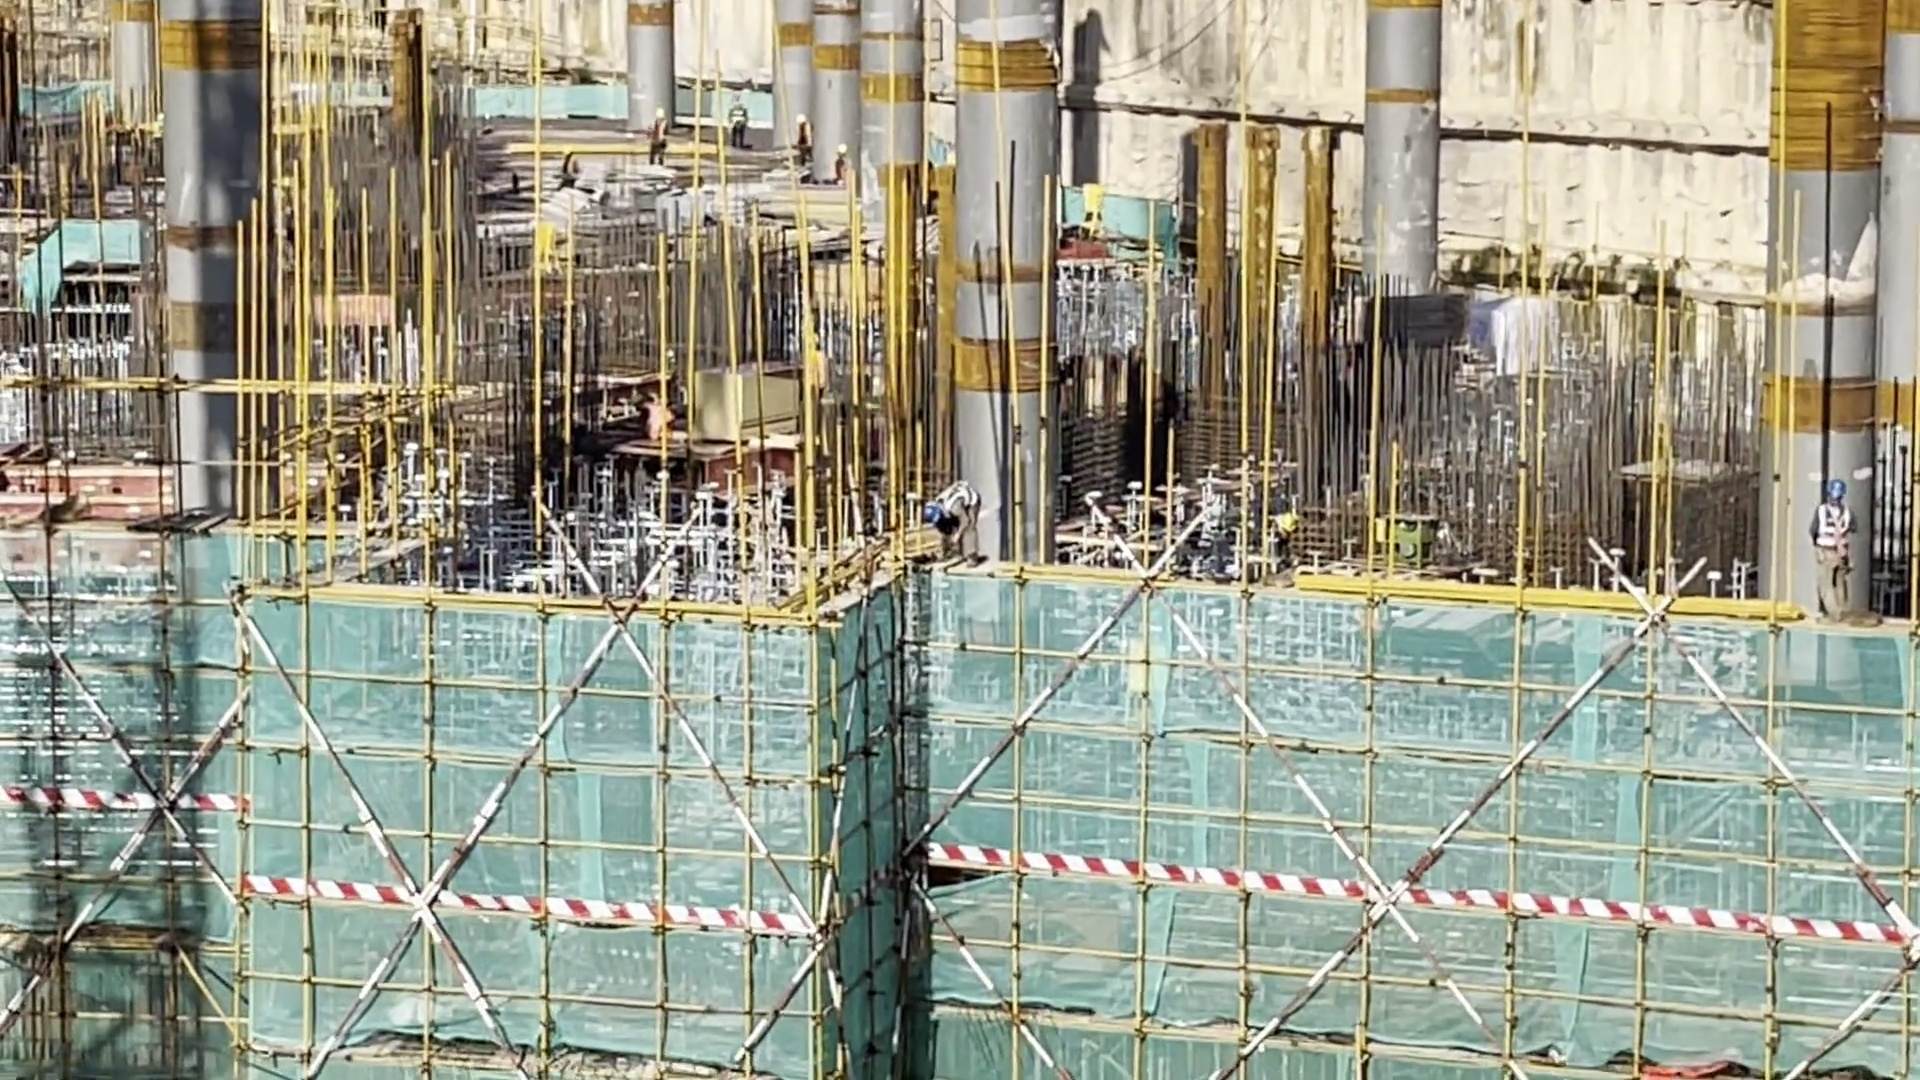helmet: (1274, 506, 1299, 536), (1829, 477, 1853, 504), (924, 499, 943, 524), (654, 108, 669, 123), (734, 94, 746, 108), (795, 113, 807, 128), (649, 392, 662, 403), (838, 143, 848, 154), (560, 150, 574, 158)
person: (1806, 465, 1863, 621), (918, 483, 981, 558), (1256, 498, 1293, 578), (641, 383, 688, 443), (643, 108, 673, 168), (789, 106, 815, 163), (553, 141, 583, 185), (723, 95, 749, 133), (833, 141, 853, 186)
vest: (1799, 507, 1856, 551), (938, 486, 981, 525), (1259, 527, 1288, 566), (644, 400, 671, 436), (798, 124, 813, 151), (833, 154, 851, 180), (656, 119, 671, 144), (726, 108, 743, 132), (566, 160, 579, 183)
